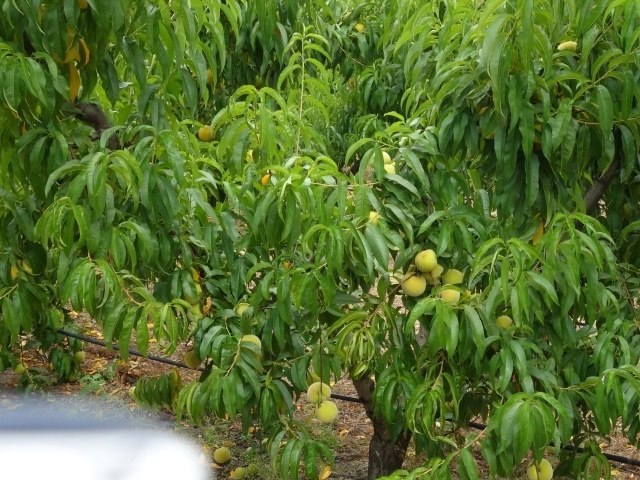peach: (310, 399, 342, 426), (305, 380, 334, 409), (400, 270, 428, 298), (524, 455, 555, 479), (413, 248, 439, 275), (444, 265, 469, 293), (182, 283, 206, 309), (438, 286, 463, 310), (494, 313, 518, 338), (184, 296, 207, 321), (424, 263, 446, 287), (181, 348, 202, 371), (194, 122, 216, 142), (554, 37, 579, 54), (241, 331, 263, 349)
